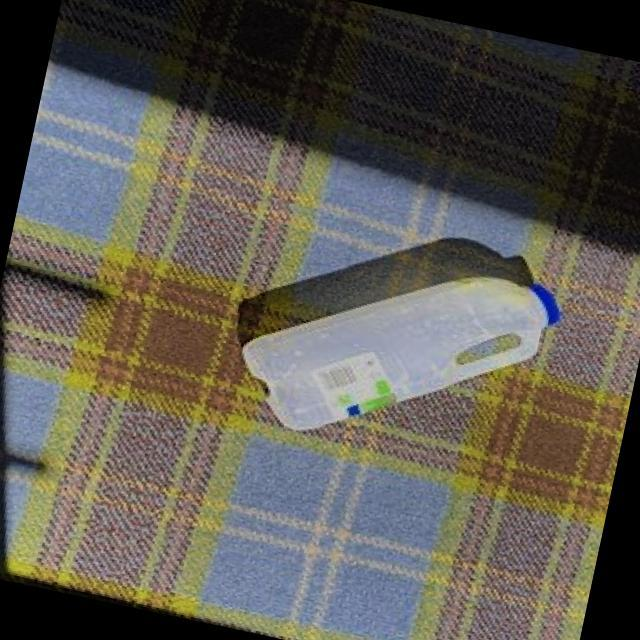HDPE Plastic: (238, 274, 561, 435)
